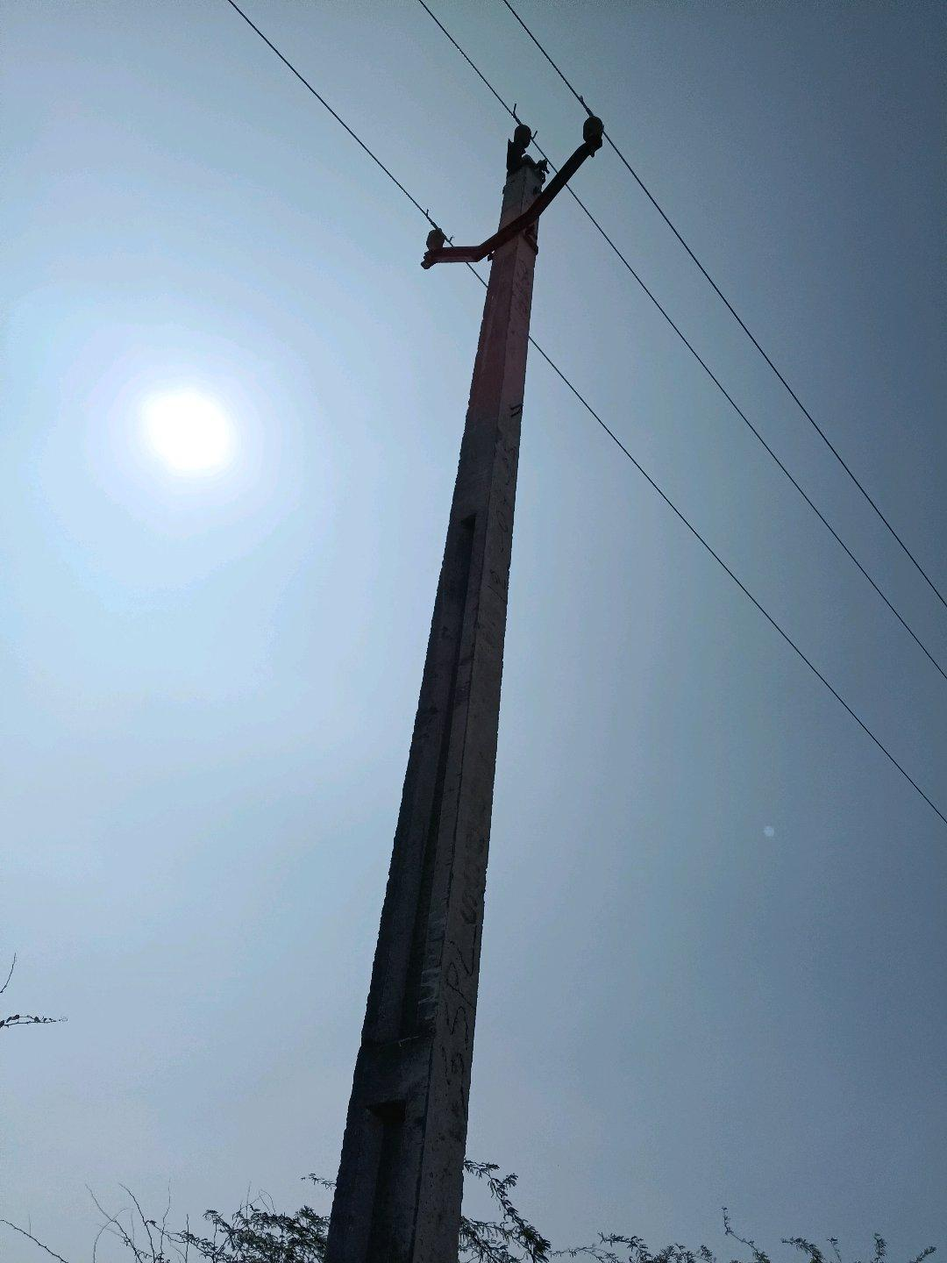{"0" "insulator", "1" "pole", "2" "crossarm", "3" "conductor", "4" "street_: (324, 119, 603, 1262), (317, 96, 368, 155), (421, 232, 462, 269), (298, 78, 311, 93), (548, 360, 559, 374), (288, 65, 295, 75), (372, 159, 381, 166), (570, 388, 575, 392), (563, 378, 566, 383), (282, 61, 284, 66), (600, 421, 602, 423)
